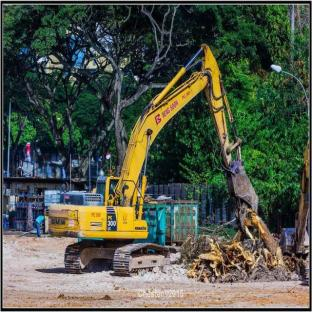ExcavationMachinery: (37, 27, 269, 278)
